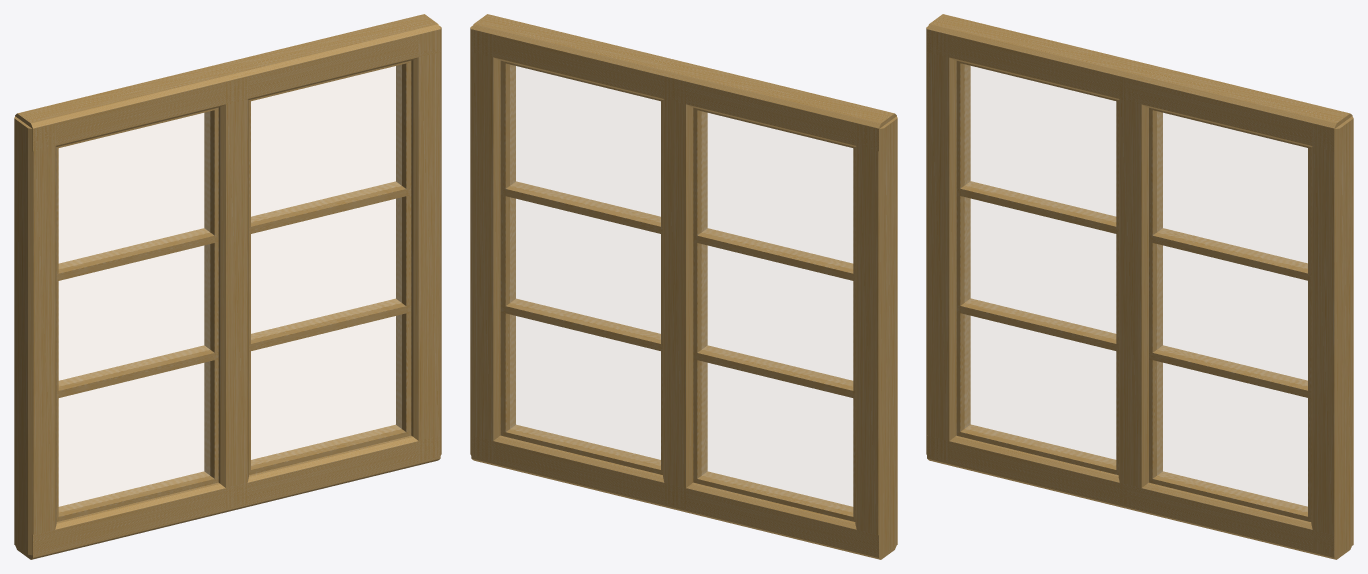
File: Project Name.gltf
3 views of the same model, side by side, from view 1: azimuth 30°, elevation 25°; view 2: azimuth 150°, elevation 25°; view 3: azimuth 330°, elevation 25° (orthographic).
Parts seen in each view (by area): view 1: Cube.009_Cube.013, Cube_Cube.005; view 2: Cube.009_Cube.013, Cube_Cube.005; view 3: Cube.009_Cube.013, Cube_Cube.005.
Boxes of the visible parts, x1=… form: Cube.009_Cube.013: x1=59, y1=65, x2=401, y2=511; Cube_Cube.005: x1=14, y1=14, x2=441, y2=559; Cube.009_Cube.013: x1=510, y1=65, x2=852, y2=511; Cube_Cube.005: x1=470, y1=14, x2=897, y2=559; Cube.009_Cube.013: x1=965, y1=65, x2=1307, y2=511; Cube_Cube.005: x1=926, y1=14, x2=1353, y2=559.
Bounding box in the file's own units: 0.00621 × 0.00626 × 0.000469.
Materials: 2 (1 with a texture image).
